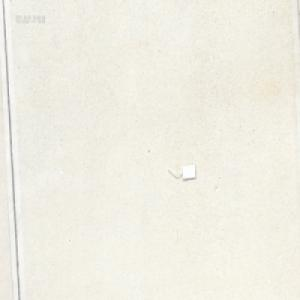LuggageTag: (166, 163, 196, 180)
